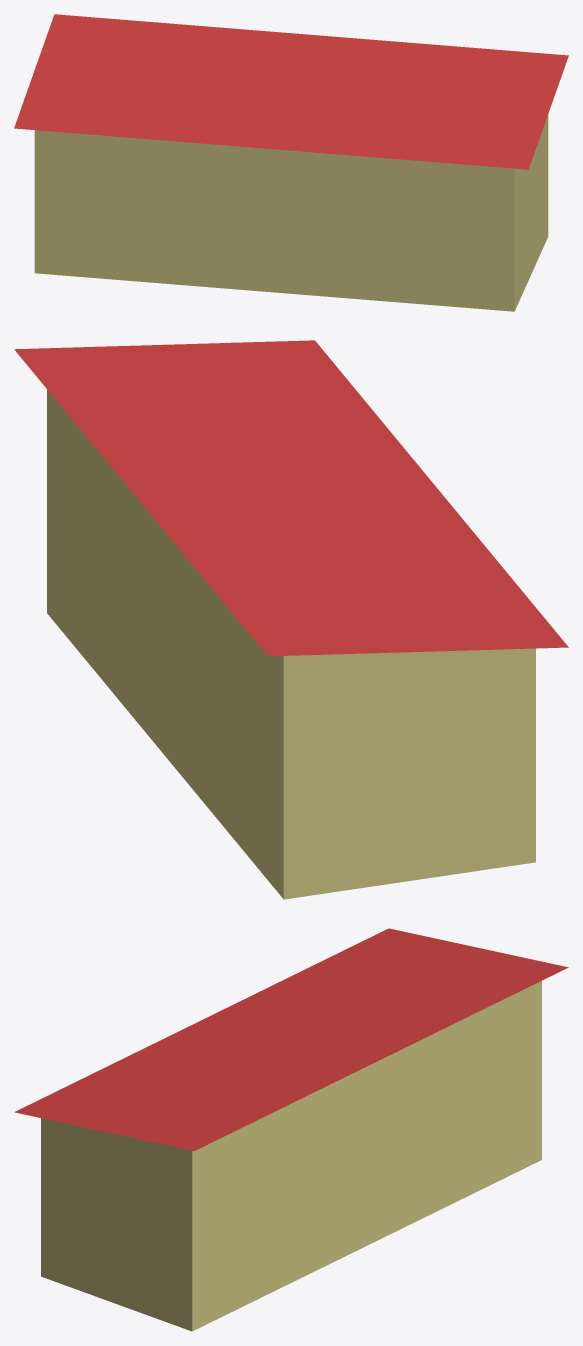
The picture shows the model from 3 angles, top to bottom: view 1: azimuth 30°, elevation 25°; view 2: azimuth 150°, elevation 25°; view 3: azimuth 270°, elevation 25°; orthographic projection. The views are drawn at different scales.
Size of the model in its own units: 22.98 by 21.6 by 8.24.
